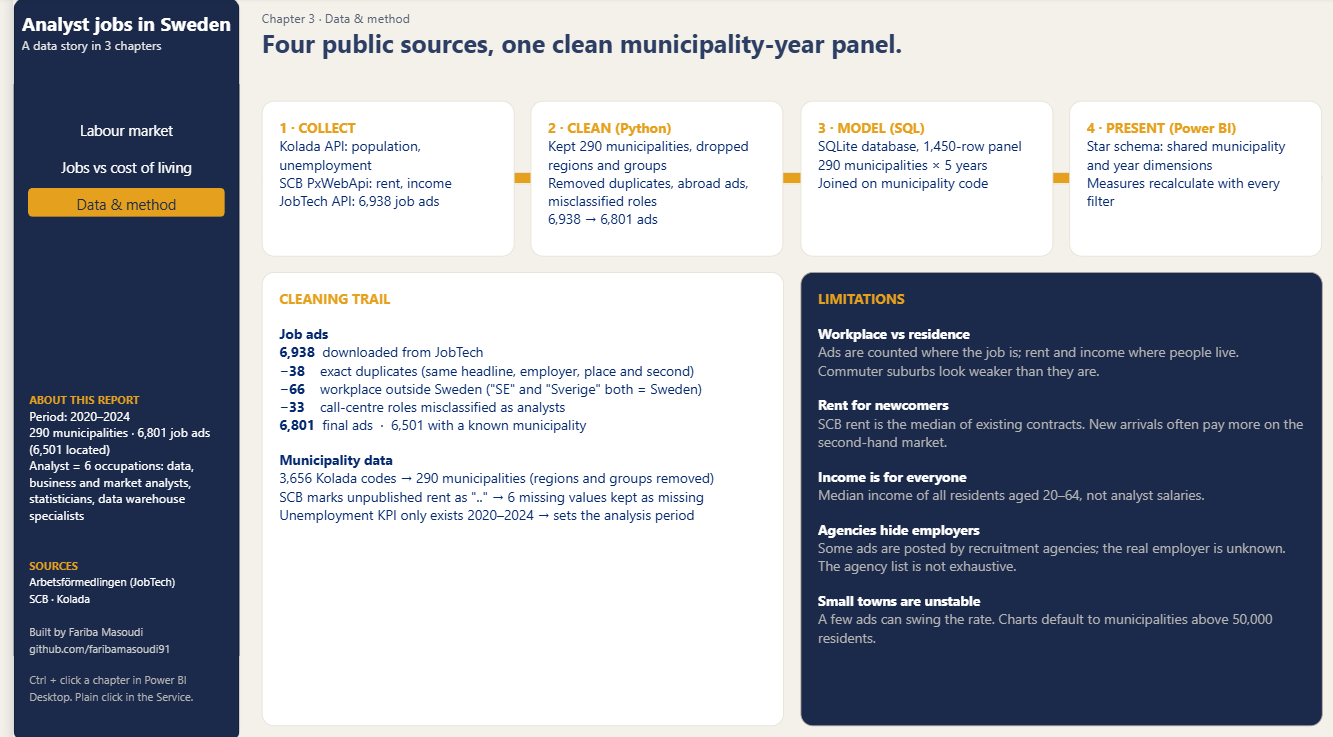

The dashboard page shown, as its layout file describes it:
{"tool":"powerbi","page":{"name":"Data & method","canvas":[1280,720],"ordinal":2},"visuals":[{"type":"shape","box":[240,169,1024,12],"z":0},{"type":"textbox","box":[240.1,12.1,695,76],"z":1000},{"type":"shape","box":[0,0,219.6,720.2],"z":2000},{"type":"textbox","box":[8.4,13.3,211.1,76],"z":3000},{"type":"pageNavigator","box":[14.5,112.2,190,100],"z":4000},{"type":"textbox","box":[16,650,190,50],"z":5000},{"type":"textbox","box":[16,380,190,260],"z":6000},{"type":"textbox","box":[760,100,244,150],"z":7000},{"type":"textbox","box":[1020,100,244,150],"z":8000},{"type":"textbox","box":[500,100,244,150],"z":9000},{"type":"textbox","box":[240,100,244,150],"z":10000},{"type":"textbox","box":[240,266,504,438],"z":11000},{"type":"textbox","box":[760,266,504,438],"z":12000}]}

Visuals, with their boxes in screenshot pixels (x1, y1, x2, y2), scaled from the page's 1280x720 canvas onto the 1333x737 screenshot:
shape: <box>250,173,1316,185</box>
textbox: <box>250,12,974,90</box>
shape: <box>0,0,229,736</box>
textbox: <box>9,14,229,91</box>
pageNavigator: <box>15,115,213,217</box>
textbox: <box>17,665,215,717</box>
textbox: <box>17,389,215,655</box>
textbox: <box>791,102,1046,256</box>
textbox: <box>1062,102,1316,256</box>
textbox: <box>521,102,775,256</box>
textbox: <box>250,102,504,256</box>
textbox: <box>250,272,775,721</box>
textbox: <box>791,272,1316,721</box>
